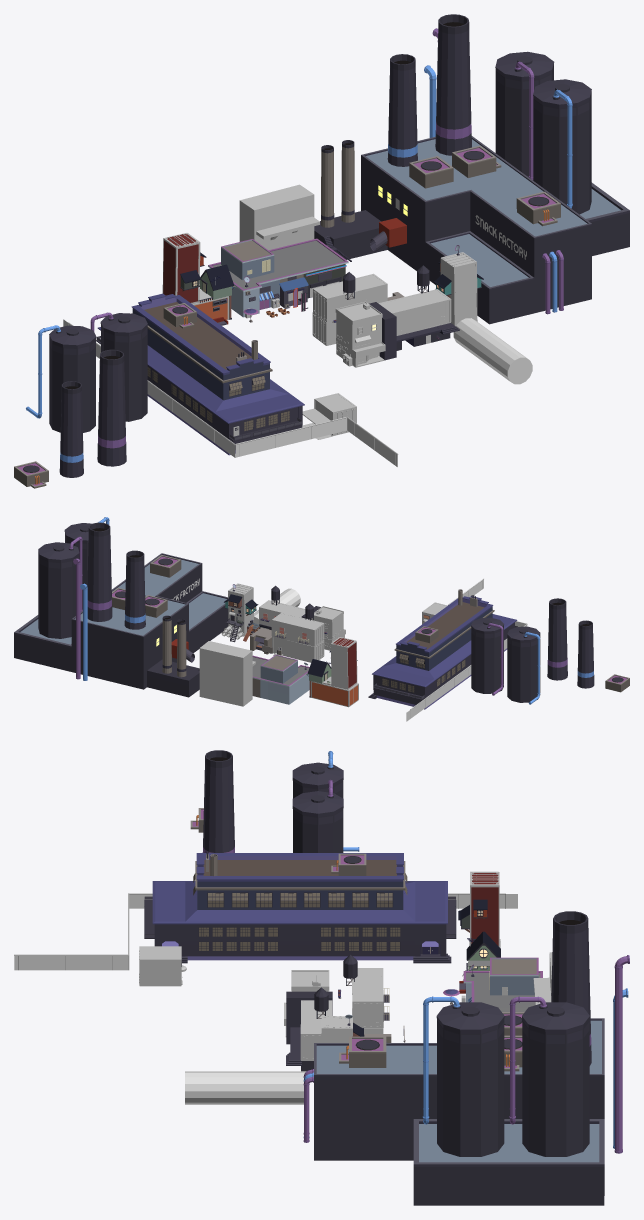
The model's file is EXT_FactoryTown.fbx.
3 renders of one model, top to bottom at view 1: azimuth 30°, elevation 25°; view 2: azimuth 150°, elevation 25°; view 3: azimuth 270°, elevation 25°, orthographic. The views are drawn at different scales.
Visible parts, largest first — view 1: Cube.520, Cube.580, Water.023, Cylinder.156, Water.027, Cube.561, Cube.750, Water.060, Water.061, Cylinder.3494, Cylinder.157, ClosedExtraBuildings.017 (+23 smaller); view 2: Cube.520, Cube.580, Water.027, Cube.750, Cylinder.156, Water.060, Water.061, Cylinder.3494, Cylinder.157, Cube.561, BoxCrate.220, BoxCrate.088 (+21 smaller); view 3: Cube.580, Cube.520, Water.023, Water.027, Cylinder.065, Cylinder.156, Cylinder.3494, Water.061, Walls.018, BoxCrate.088, BoxCrate.220, BoxCrate.170 (+14 smaller).
Part boxes in pixels (box(x1,y1,x2,y2)): Cube.520: box(314, 136, 629, 324); Cube.580: box(96, 293, 304, 455); Water.023: box(533, 79, 591, 214); Cylinder.156: box(435, 14, 471, 155); Water.027: box(495, 51, 554, 177); Cube.561: box(208, 238, 348, 317); Cube.750: box(239, 184, 319, 250); Water.060: box(49, 325, 96, 432); Water.061: box(100, 313, 147, 421); Cylinder.3494: box(97, 349, 126, 466); Cylinder.157: box(387, 54, 417, 166); ClosedExtraBuildings.017: box(335, 299, 385, 367); Cube.520: box(14, 553, 228, 697); Cube.580: box(368, 589, 517, 709); Water.027: box(38, 542, 79, 638); Cube.750: box(199, 641, 255, 706); Cylinder.156: box(87, 522, 112, 621); Water.060: box(507, 626, 540, 702); Water.061: box(471, 617, 503, 693); Cylinder.3494: box(547, 598, 567, 680); Cylinder.157: box(124, 550, 145, 629); Cube.561: box(252, 655, 309, 704); BoxCrate.220: box(322, 637, 357, 689); BoxCrate.088: box(271, 612, 324, 646); Cube.580: box(144, 851, 456, 963); Cube.520: box(314, 1018, 604, 1205); Water.023: box(436, 1002, 504, 1156); Water.027: box(522, 1002, 589, 1156); Cylinder.065: box(185, 1071, 306, 1104); Cylinder.156: box(551, 911, 591, 1065); Cylinder.3494: box(202, 750, 234, 852); Water.061: box(292, 791, 343, 852); Walls.018: box(14, 954, 128, 970); BoxCrate.088: box(352, 968, 383, 1028); BoxCrate.220: box(470, 871, 499, 946); BoxCrate.170: box(139, 946, 186, 986).
Size of the model in its own units: 27744 by 8111 by 18724.
